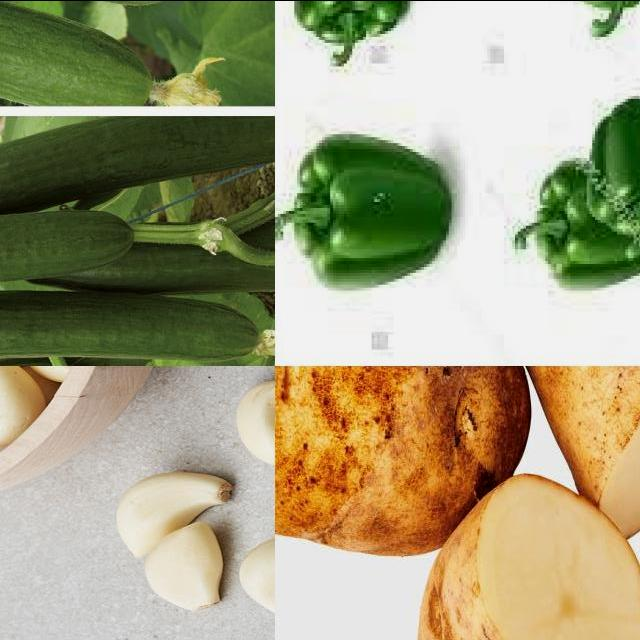bell_pepper: (276, 128, 455, 290)
cucumber: (1, 116, 276, 231), (1, 287, 256, 365), (1, 1, 157, 107), (1, 211, 138, 291)
garlic: (114, 469, 236, 615), (236, 377, 276, 467), (241, 527, 276, 615)
potato: (276, 366, 529, 548), (418, 469, 640, 640), (506, 366, 640, 536)
